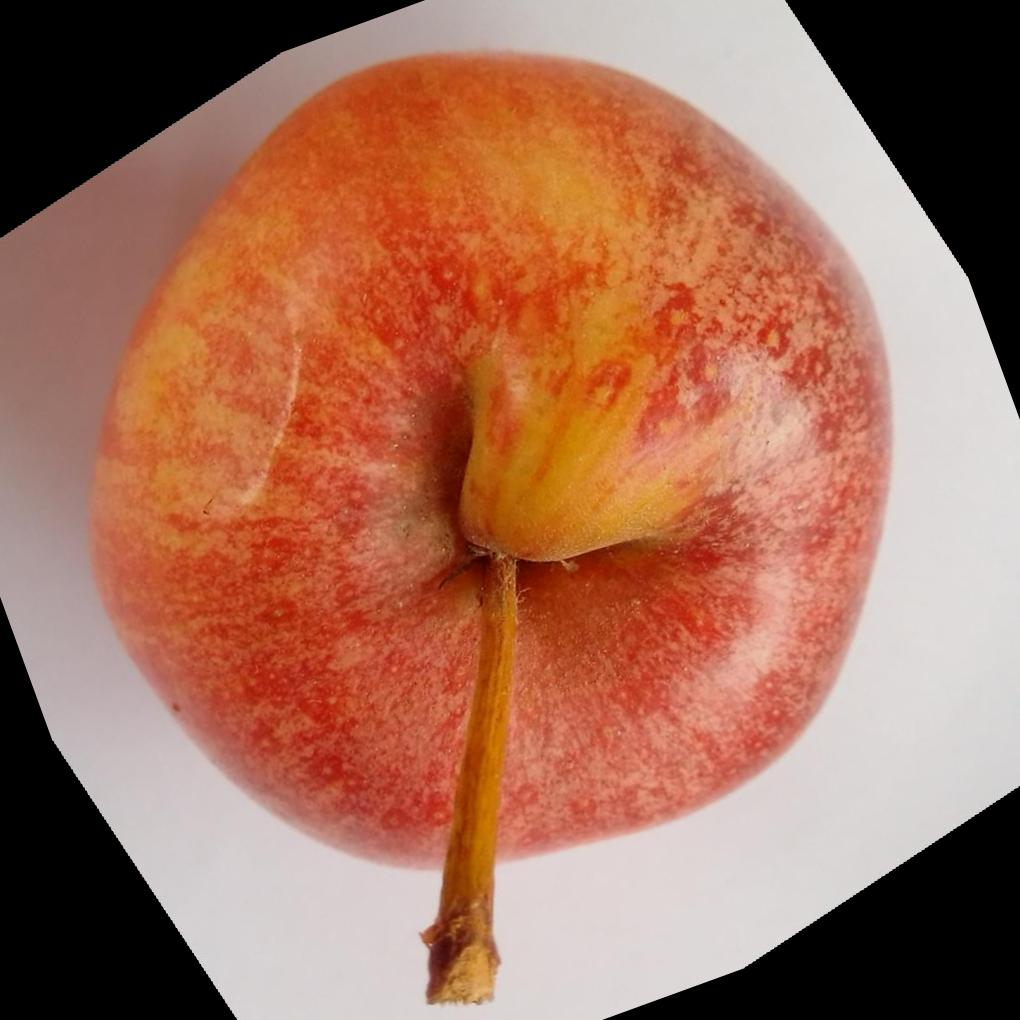FreshGuava: (83, 44, 892, 1005), (419, 551, 520, 1003)
